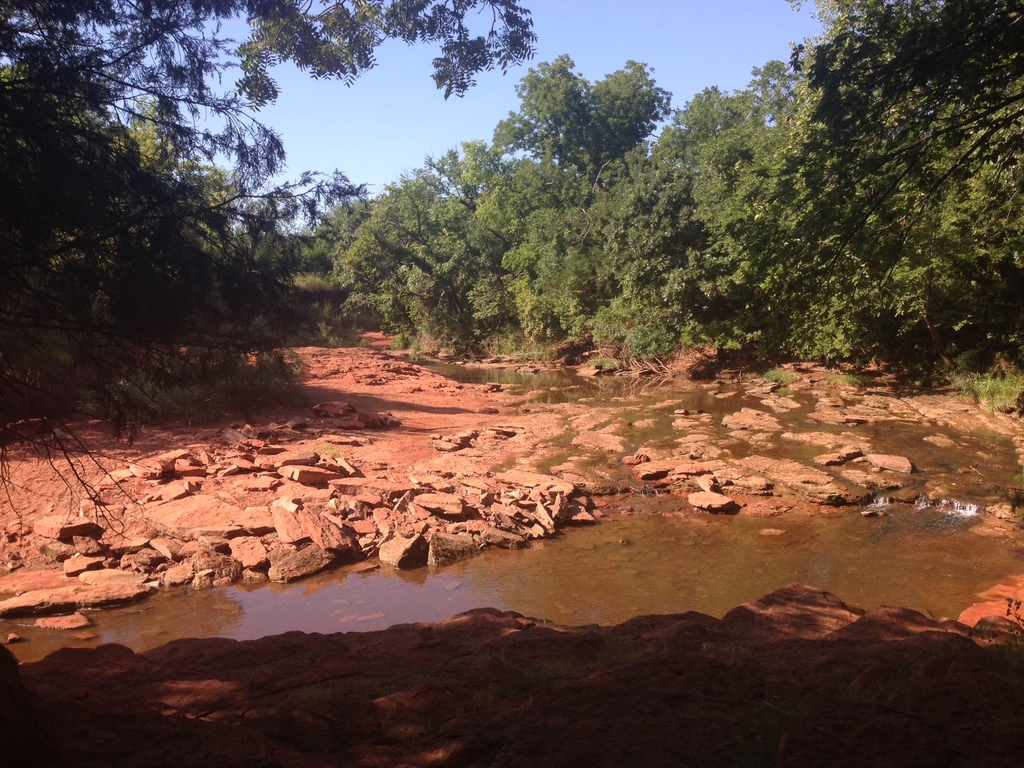Tree: (0, 0, 531, 530), (667, 21, 1010, 389), (314, 50, 675, 344)
